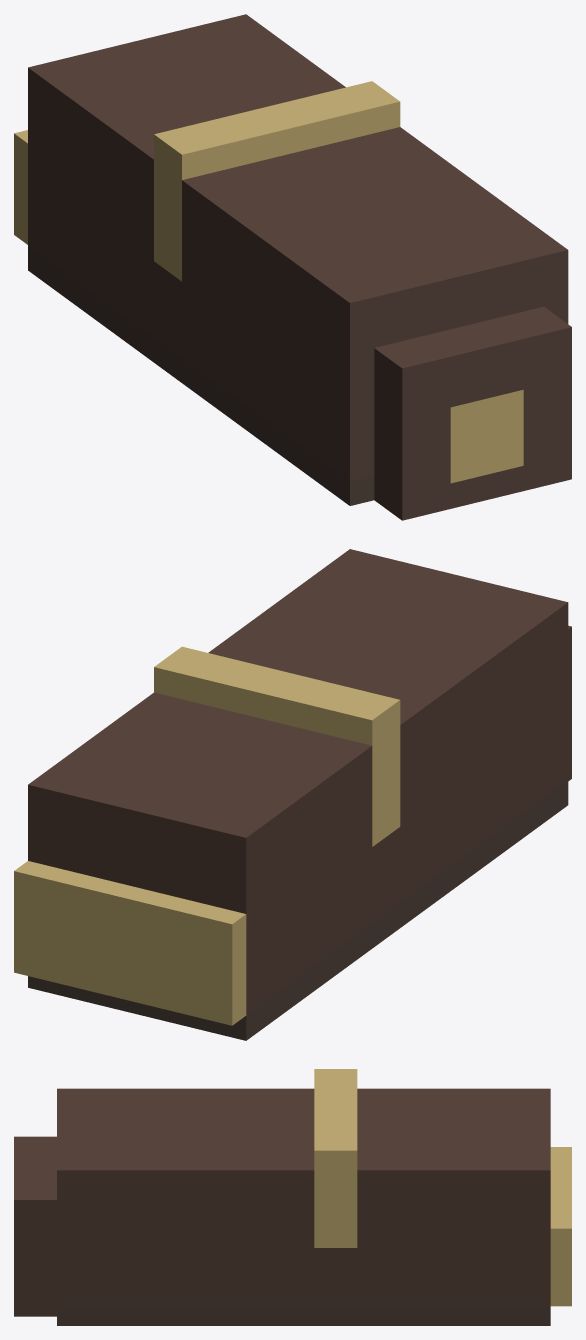
File: leather_legendary_boot_foot_L.glb
3 views of the same model, one above another, from view 1: azimuth 30°, elevation 25°; view 2: azimuth 150°, elevation 25°; view 3: azimuth 270°, elevation 25° (orthographic). The views are drawn at different scales.
Visible parts, largest first — view 1: leather_legendary_boot_foot_L; view 2: leather_legendary_boot_foot_L; view 3: leather_legendary_boot_foot_L.
Part boxes in pixels (left/top/right/bottom): leather_legendary_boot_foot_L: left=14, top=14, right=571, bottom=520; leather_legendary_boot_foot_L: left=14, top=549, right=571, bottom=1040; leather_legendary_boot_foot_L: left=14, top=1069, right=571, bottom=1325.
Size of the model in its own units: 0.108 by 0.108 by 0.312.
